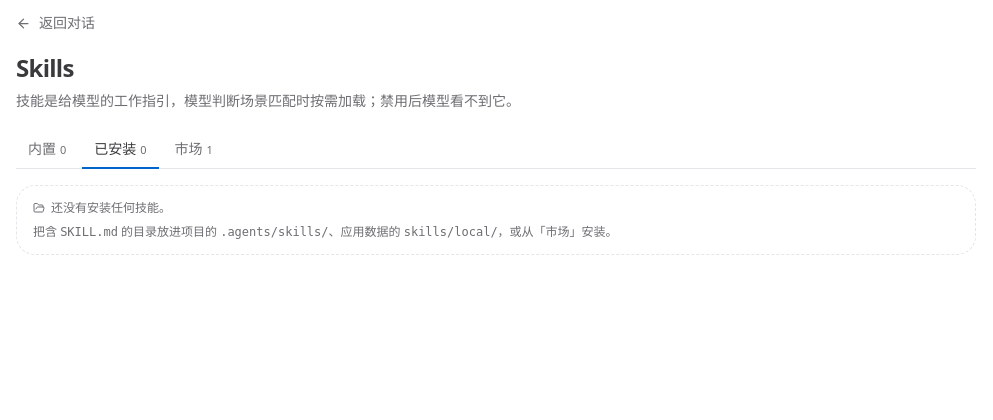
SkillsPage › 分页的源显示页码与翻页按钮
This screenshot has width=993, height=420.
Step 1. Click the tab "市场1" → {"x": 194, "y": 150}, box [163,131,225,169]
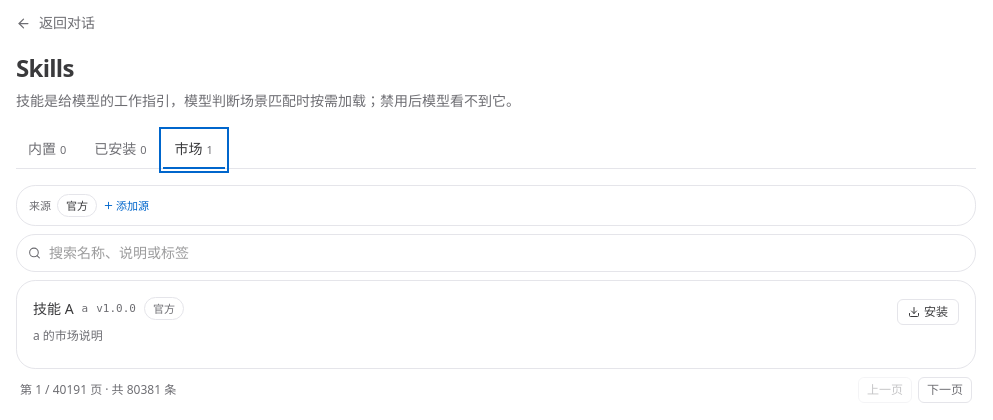
Expected: the text "第 1 / 40191 页 · 共 80381 条" is shown, [20,382,176,398]
Expected: the button "下一页" is shown, [918,377,972,403]
Expected: the button "上一页" is disabled, [858,377,912,403]
